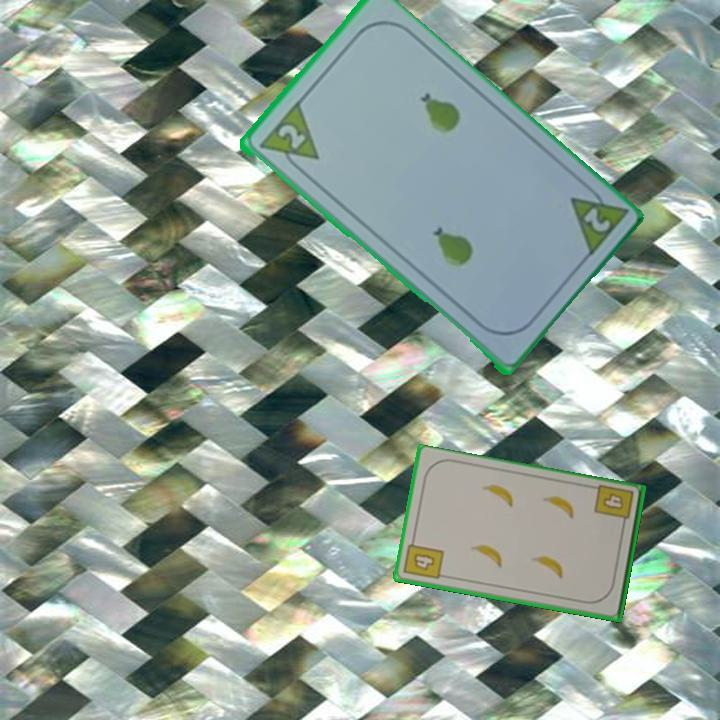2p: (565, 178, 629, 262), (273, 120, 308, 153)
4b: (591, 482, 637, 531), (400, 535, 447, 582)
